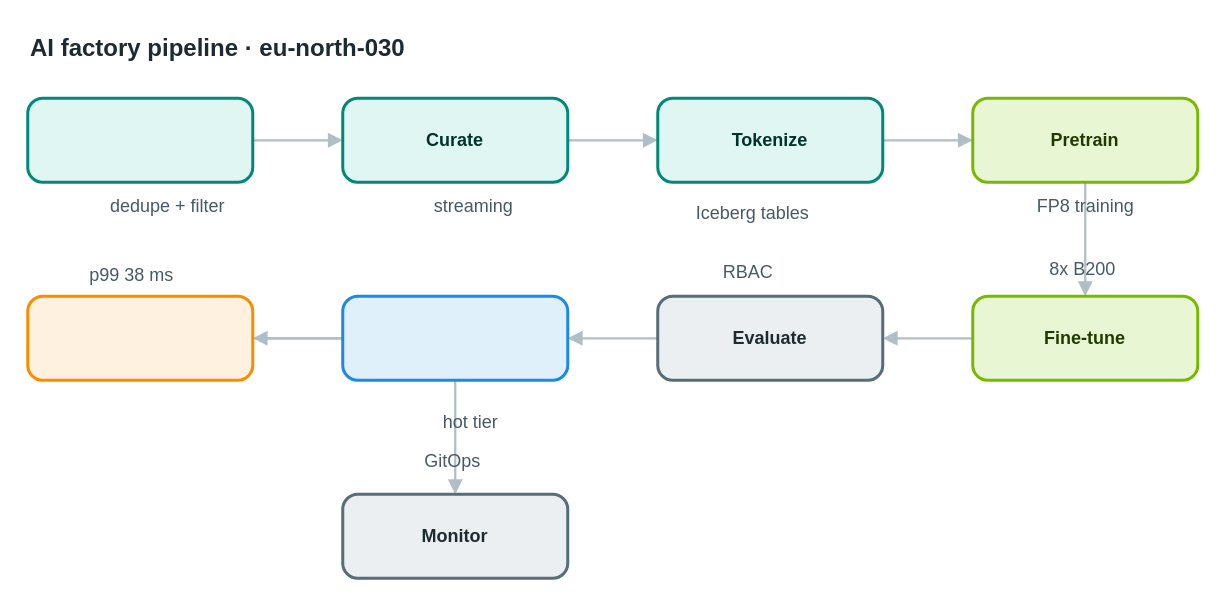
This 1224x605 diagram has some shape labels left out. The box of each missing label's shape, as (x1, y1, x2, y2) in pixels:
Ingest: (26, 96, 254, 183)
Model registry: (340, 294, 568, 381)
Serve: (26, 294, 254, 381)
